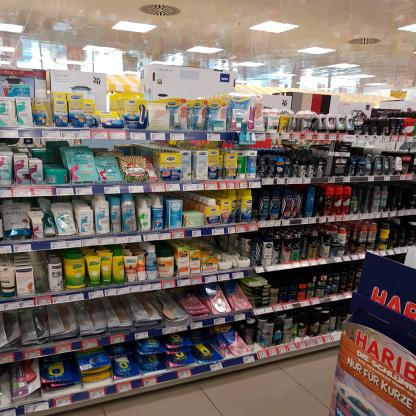Void: (44, 139, 63, 169), (33, 262, 48, 291), (212, 238, 240, 253)
